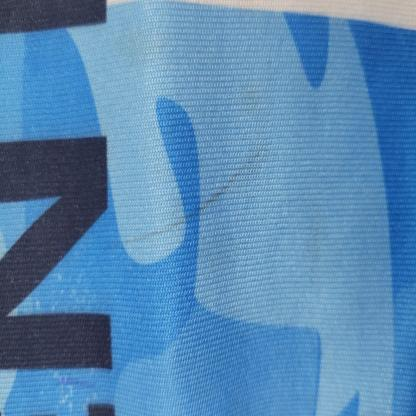spot: (93, 94, 307, 258)
